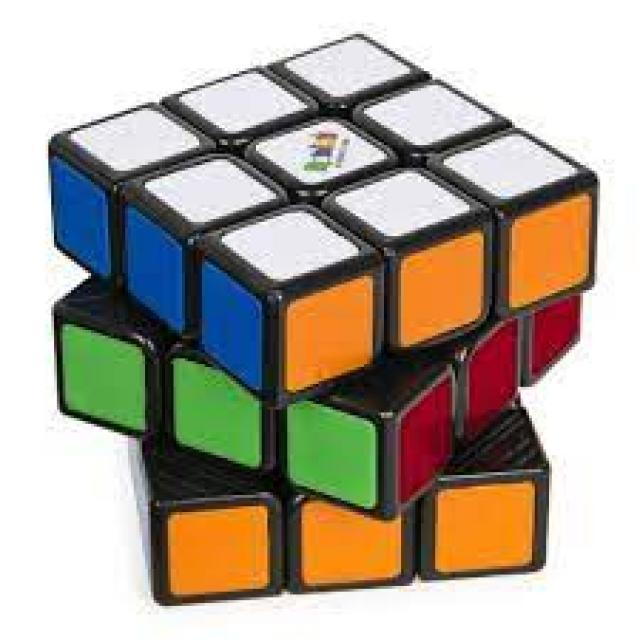Rub: (39, 22, 604, 609)
